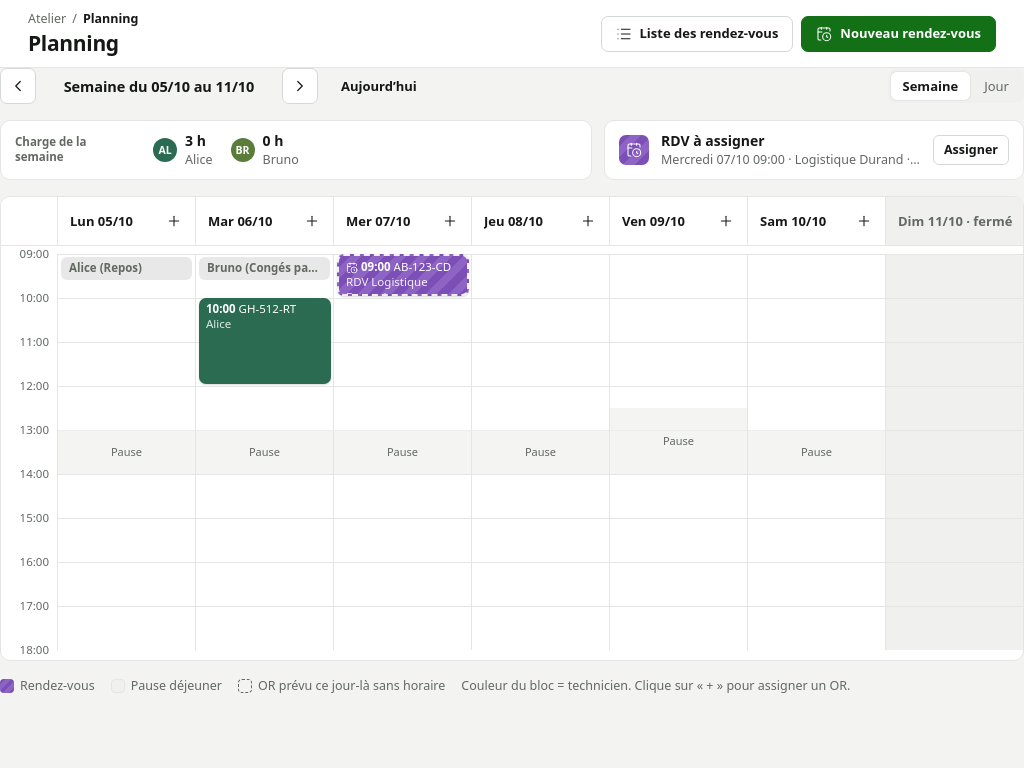
Test: rendez-vous › rappel au client : enregistré puis message prêt à envoyer
Click the button with aria-label "Rendez-vous 09:00 AB-123-CD" at (403, 275), box [337, 254, 469, 296]
(page scrolled)
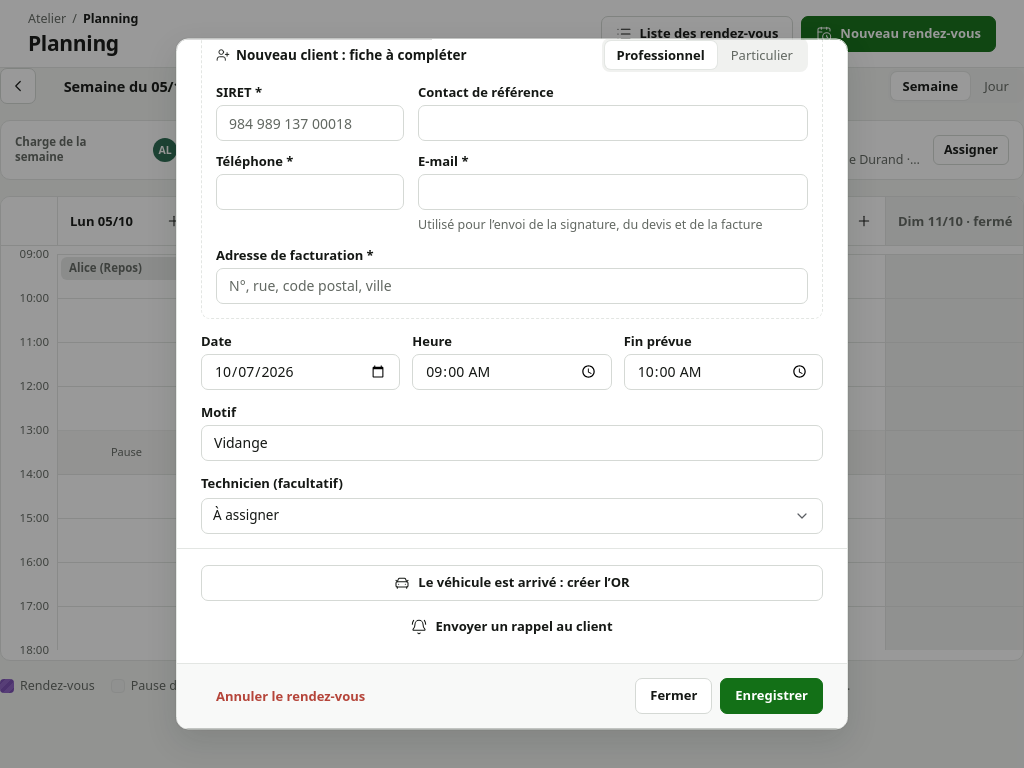
Click the button "Envoyer un rappel au client" at (512, 627), box [201, 609, 823, 645]
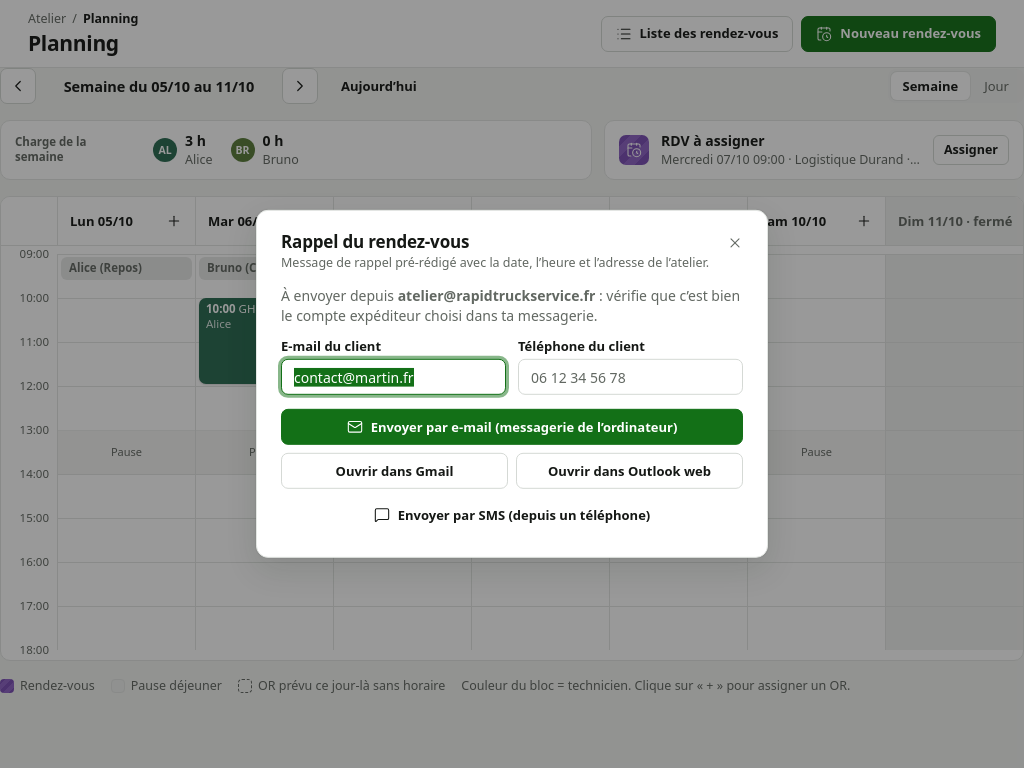
Check: the field labelled "E-mail du client" holds "contact@martin.fr", box [281, 359, 506, 395]
